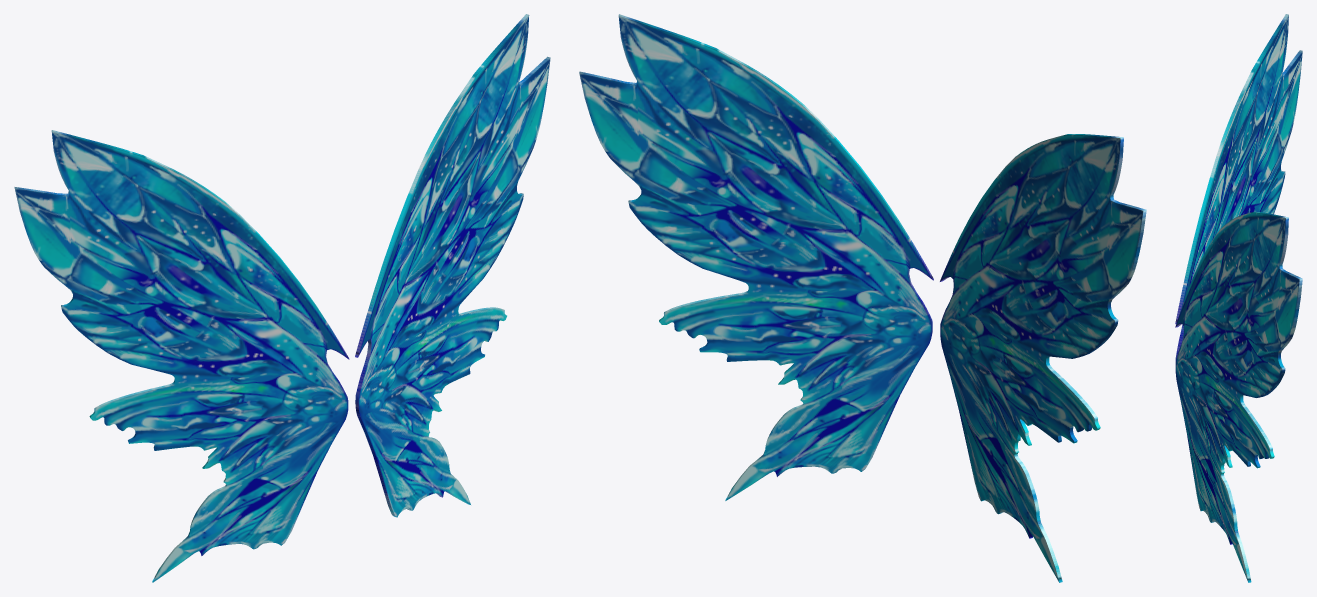
File: Fairy_Wings_01.fbx
3 views of the same model, side by side, from view 1: azimuth 30°, elevation 25°; view 2: azimuth 150°, elevation 25°; view 3: azimuth 270°, elevation 25° (orthographic). The views are drawn at different scales.
Visible parts, largest first — view 1: FairyWings; view 2: FairyWings; view 3: FairyWings.
Part boxes in pixels (bbox=[...]): FairyWings: bbox=[14, 14, 550, 582]; FairyWings: bbox=[579, 14, 1146, 582]; FairyWings: bbox=[1175, 14, 1302, 582].
Size of the model in its own units: 10.84 by 8.8 by 2.55.
Materials: 1 (1 with a texture image).
